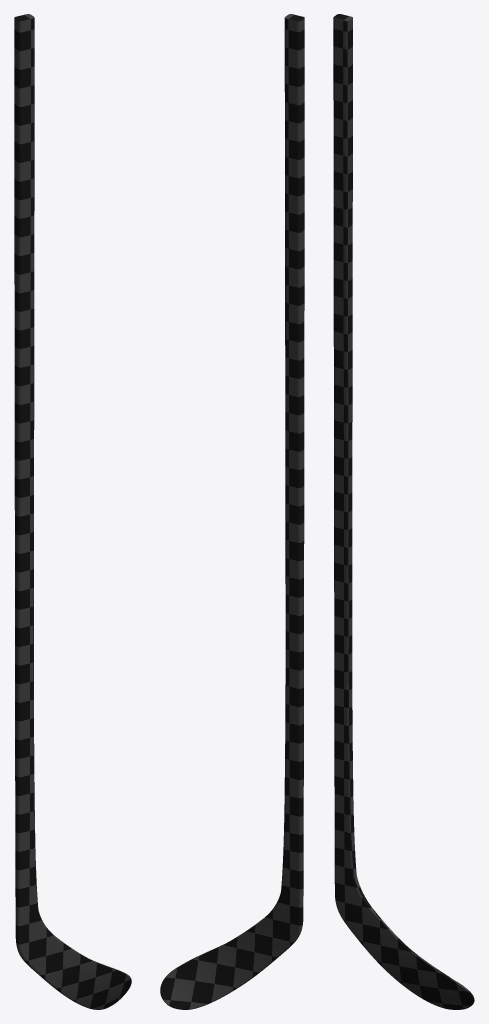
The picture shows the model from 3 angles, left to right: view 1: azimuth 30°, elevation 25°; view 2: azimuth 150°, elevation 25°; view 3: azimuth 330°, elevation 25°; orthographic projection. The views are drawn at different scales.
Visible parts, largest first — view 1: geometry_0; view 2: geometry_0; view 3: geometry_0.
Part boxes in pixels (x1,y1,x2,y2): geometry_0: [14, 14, 131, 1009]; geometry_0: [160, 14, 304, 1009]; geometry_0: [333, 14, 474, 1009].
Bounding box in the file's own units: 219 × 1650 × 62.21.
Materials: 1 (1 with a texture image).
